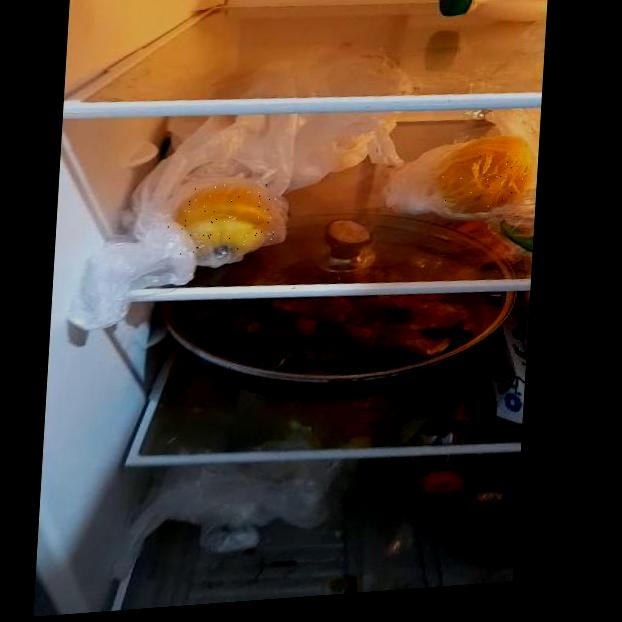lemon: (165, 180, 279, 257), (437, 137, 535, 212)
